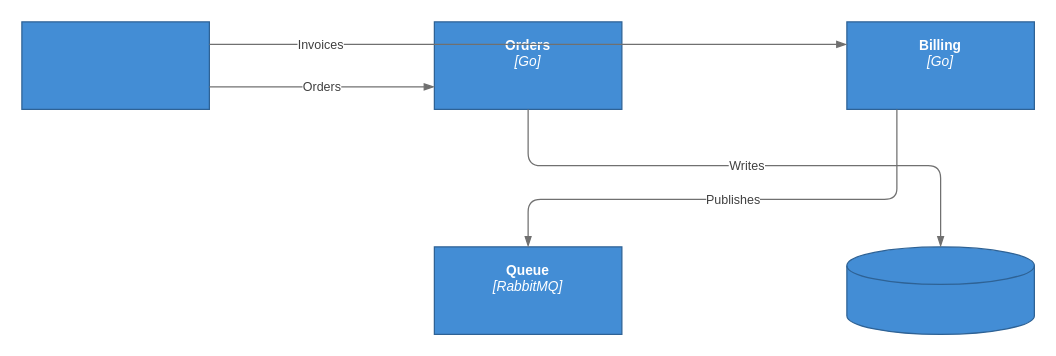
Some shapes in this 1056 by 356 pixel diagram are drawn without their labels. The shapes that lost their labels are listed below. From the top down, each one's centre as x and y in pixels, then its label:
the point at 115,65: Gateway [Envoy]
the point at 940,290: Database [PostgreSQL]
